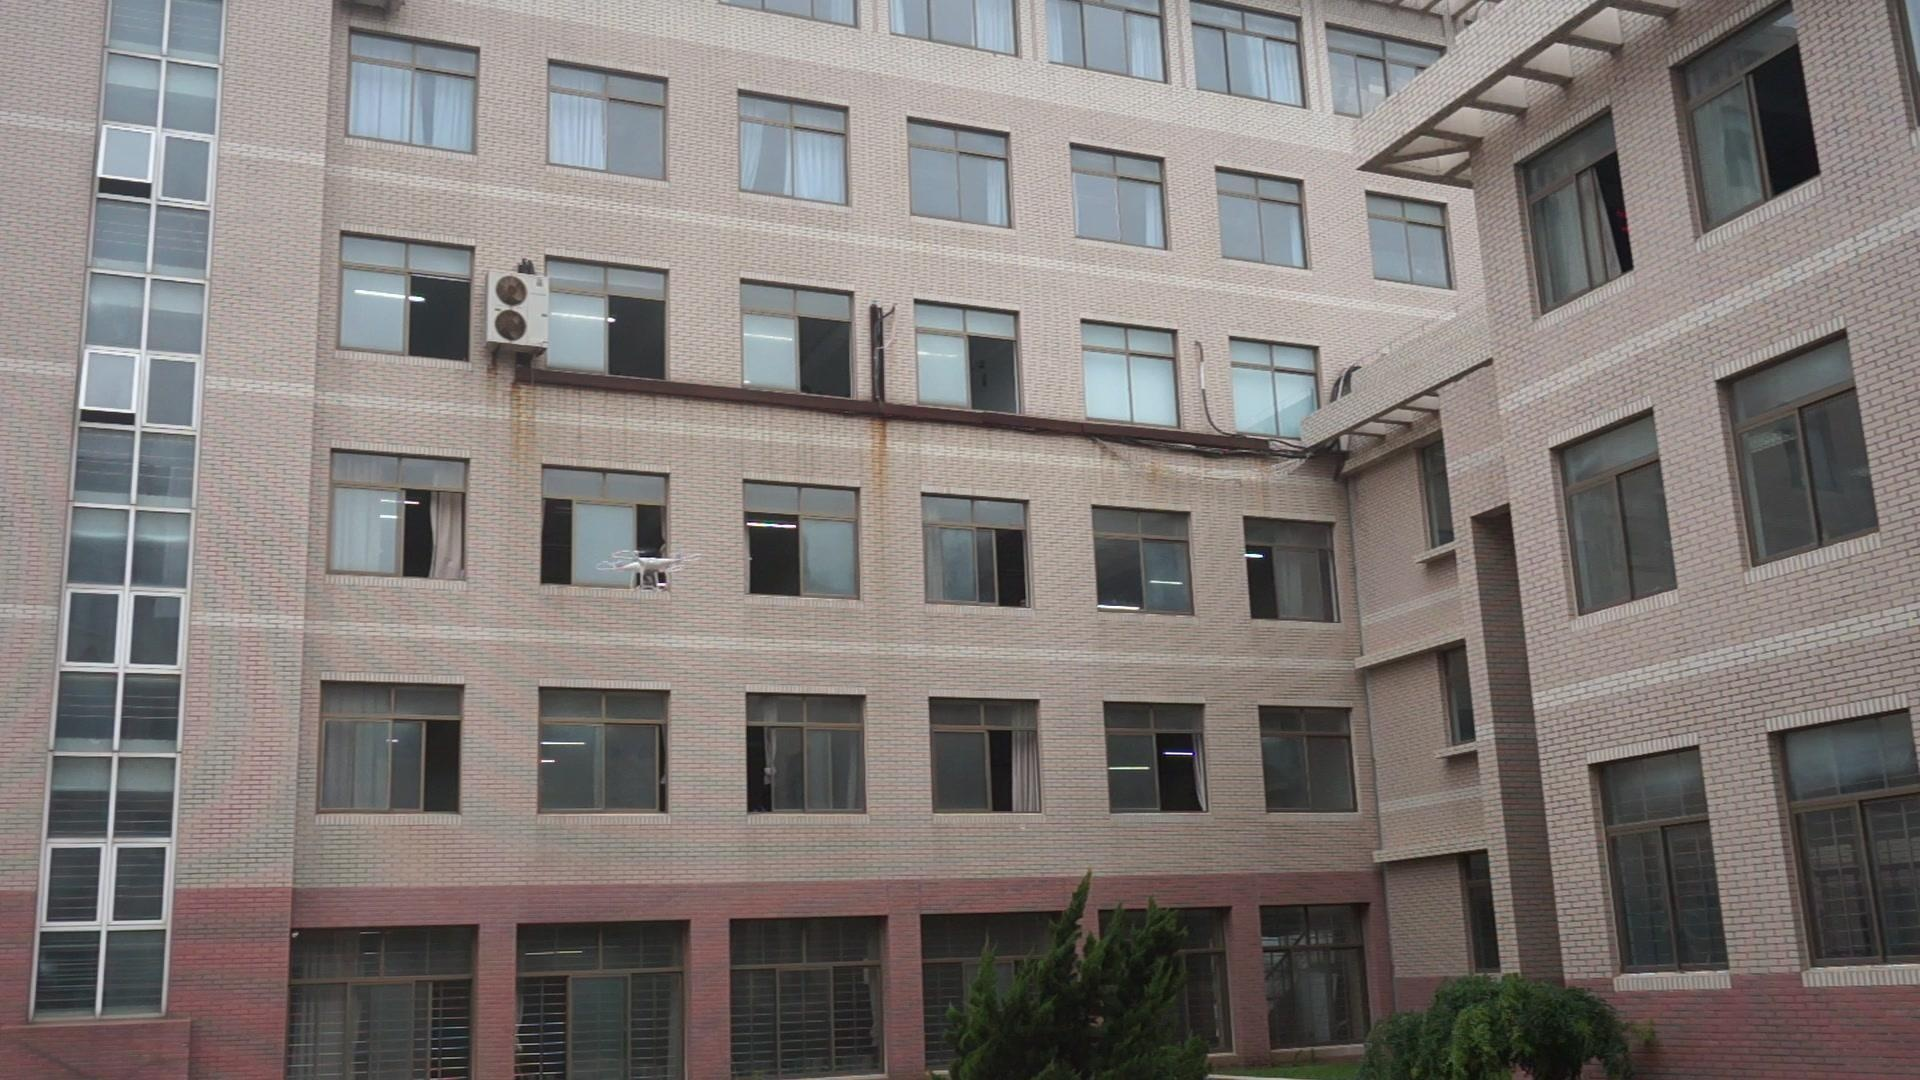UAV: (596, 550, 703, 592)
